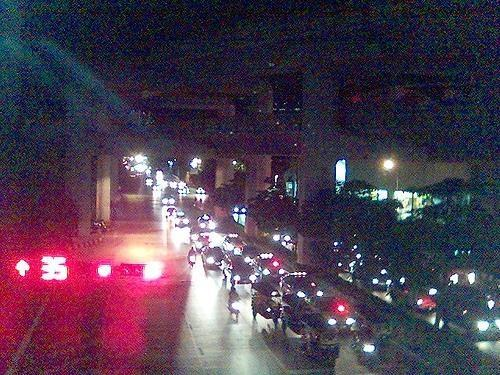car: (308, 295, 372, 338), (438, 285, 491, 319), (412, 269, 448, 303), (221, 256, 256, 288), (283, 275, 322, 301), (256, 255, 285, 278), (201, 245, 225, 267), (223, 233, 248, 254), (252, 282, 282, 297), (416, 296, 438, 311), (196, 214, 214, 232), (172, 212, 190, 227), (166, 208, 178, 219)
motorcycle: (232, 300, 241, 318), (282, 312, 288, 334), (188, 254, 196, 268)
